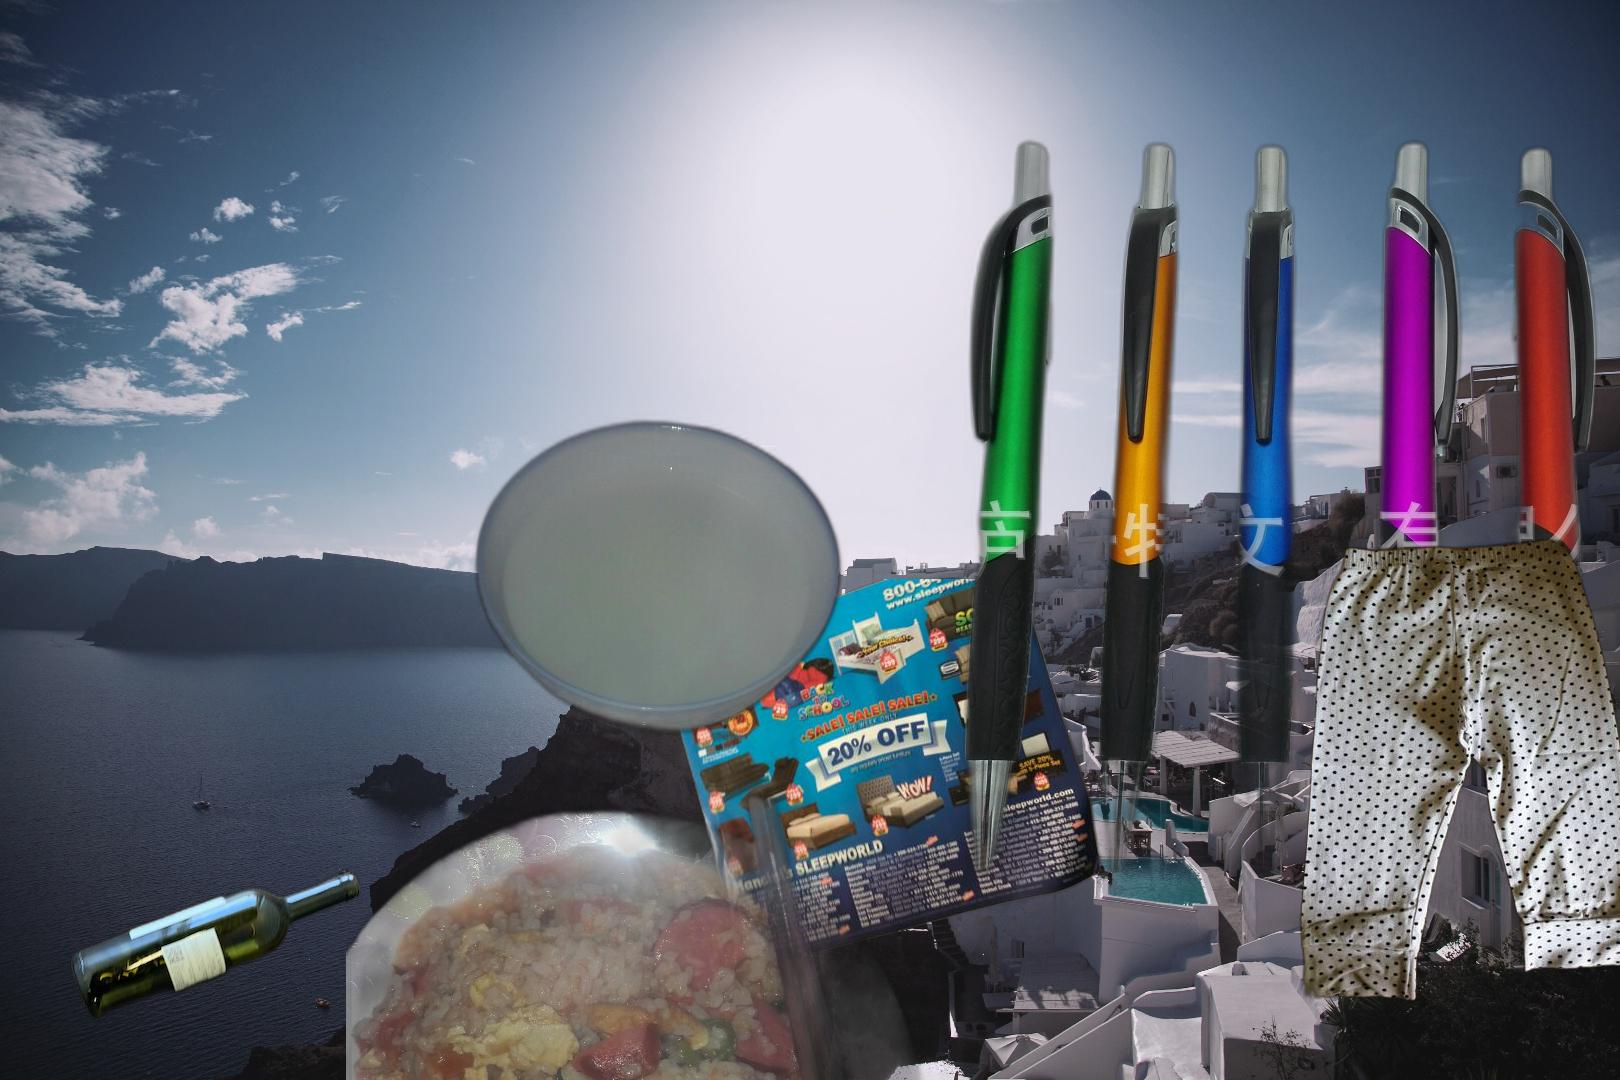biological: (346, 413, 931, 1080)
clothes: (1297, 534, 1620, 1014)
glass: (66, 865, 365, 1025)
paper: (661, 579, 1110, 963)
penholder: (955, 134, 1620, 1028)
